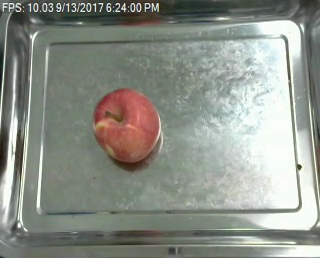Apple: (89, 84, 162, 165)
